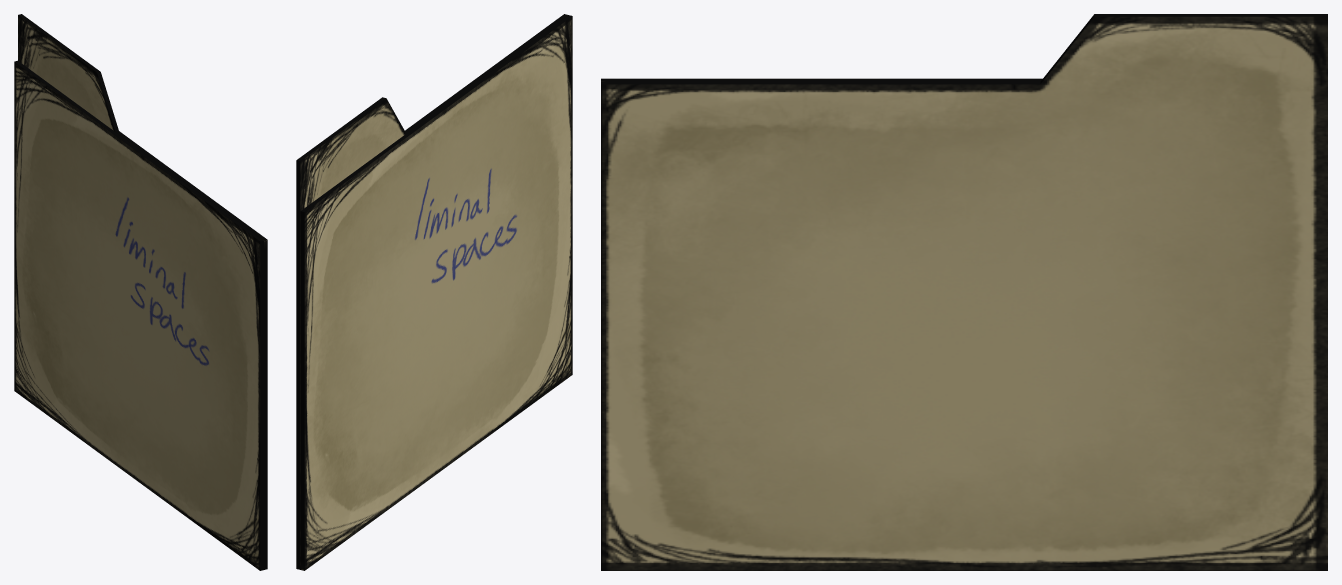
Rendered from folder_rings.fbx.
3 renders of one model, left to right at view 1: azimuth 30°, elevation 25°; view 2: azimuth 150°, elevation 25°; view 3: azimuth 270°, elevation 25°, orthographic. The views are drawn at different scales.
Parts seen in each view (by area): view 1: folder_front.005, folder_rings; view 2: folder_front.005, folder_rings; view 3: folder_rings, folder_front.005.
Boxes of the visible parts, bbox=[...] form: folder_front.005: bbox=[14, 60, 263, 570]; folder_rings: bbox=[18, 14, 267, 569]; folder_front.005: bbox=[300, 15, 572, 570]; folder_rings: bbox=[296, 14, 567, 569]; folder_rings: bbox=[601, 14, 1327, 570]; folder_front.005: bbox=[601, 78, 1042, 81].
Size of the model in its own units: 1.13 by 53.74 by 63.85.
2 materials, 2 textured.
